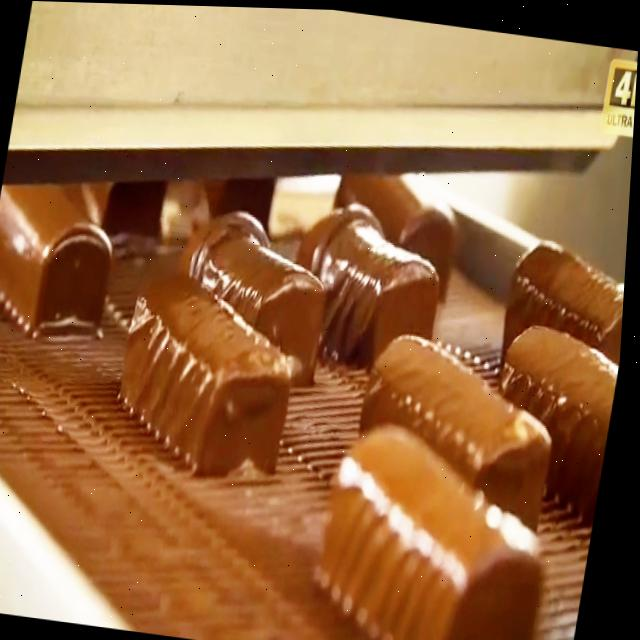Choco: (307, 409, 572, 640), (350, 318, 574, 528), (108, 264, 312, 485), (469, 296, 627, 510), (173, 198, 344, 385), (286, 197, 456, 375), (0, 169, 128, 344), (333, 154, 478, 295), (506, 197, 631, 355)
